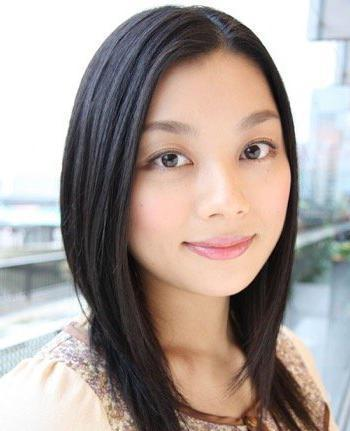Sober: (132, 67, 280, 277)
